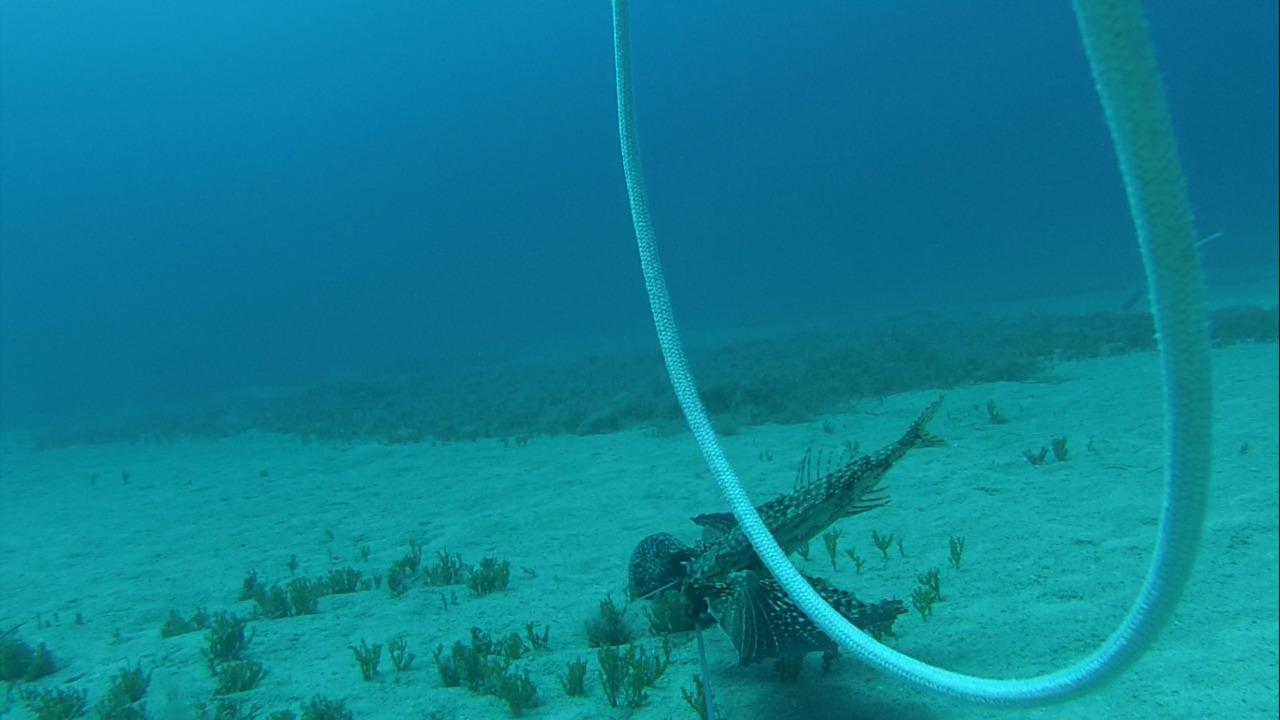dactylopterus: (625, 390, 950, 663)
